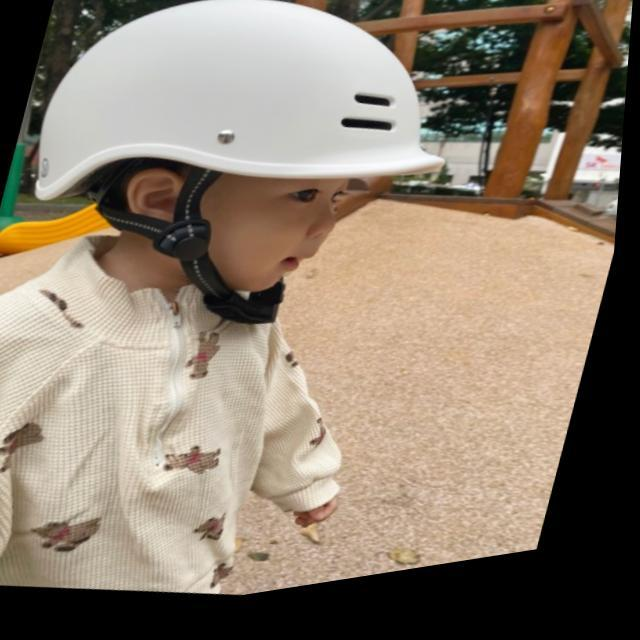Helmet: (0, 0, 446, 316)
